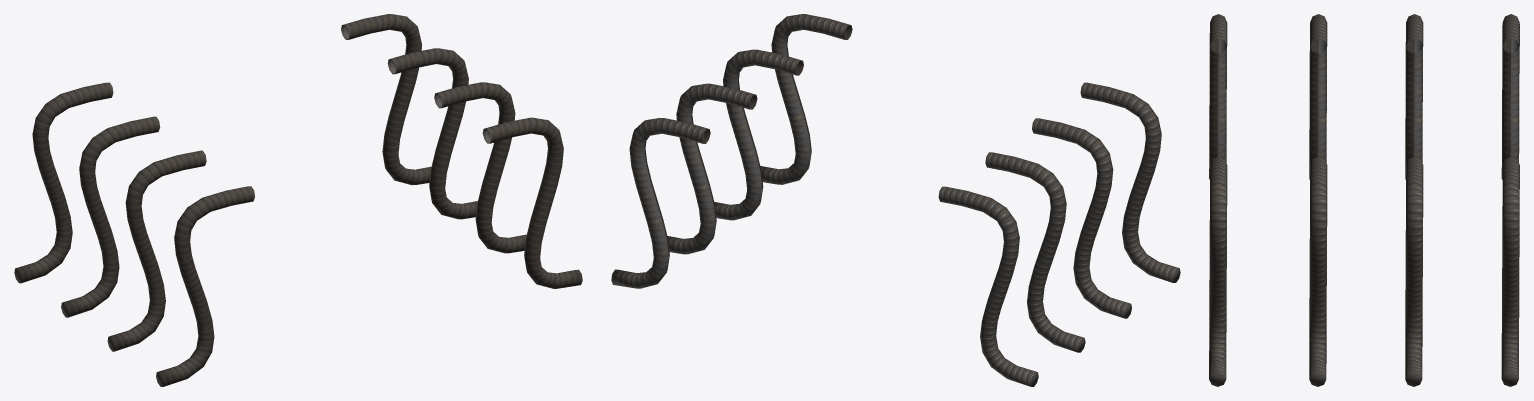
The model's file is shlang1.fbx.
The picture shows the model from 3 angles, left to right: view 1: azimuth 30°, elevation 25°; view 2: azimuth 150°, elevation 25°; view 3: azimuth 270°, elevation 25°; orthographic projection. The views are drawn at different scales.
Visible parts, largest first — view 1: shlang1; view 2: shlang1; view 3: shlang1.
Boxes of the visible parts, x1,y1,x2,y2 form: shlang1: [14, 14, 582, 386]; shlang1: [611, 14, 1180, 386]; shlang1: [1209, 14, 1519, 386].
Bounding box in the file's own units: 229 × 93.52 × 142.
1 material, 1 textured.
